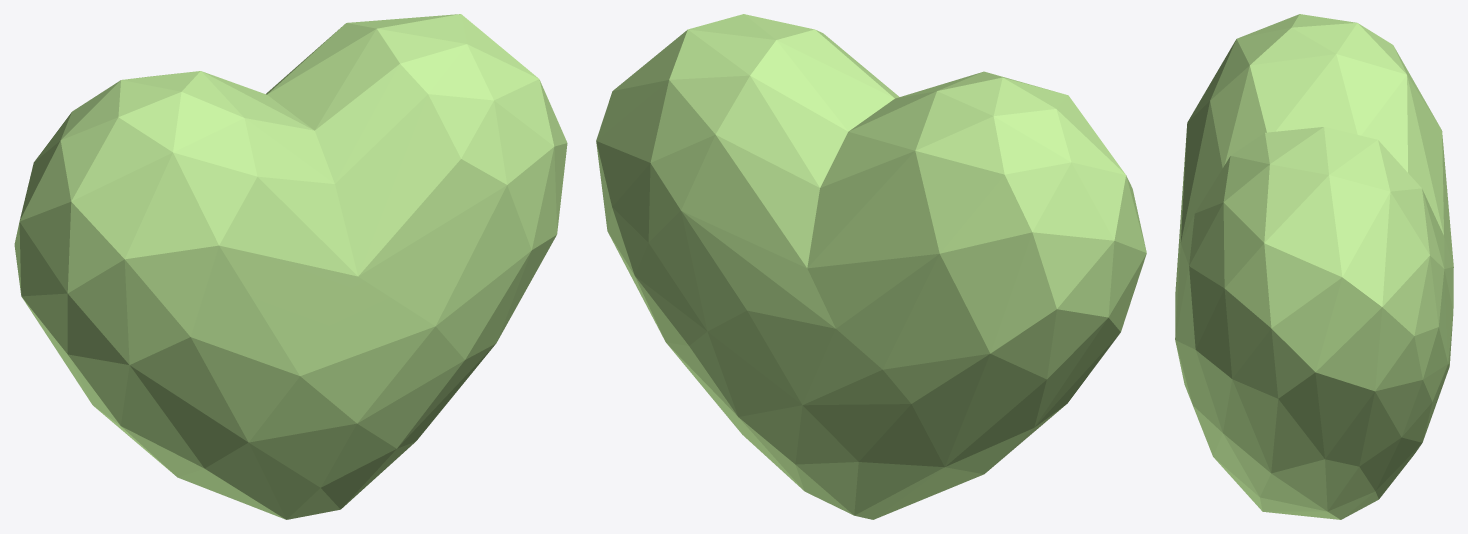
Rendered from LoveHeart.glb.
The picture shows the model from 3 angles, left to right: view 1: azimuth 30°, elevation 25°; view 2: azimuth 150°, elevation 25°; view 3: azimuth 270°, elevation 25°; orthographic projection. The views are drawn at different scales.
Visible parts, largest first — view 1: Love; view 2: Love; view 3: Love.
Boxes of the visible parts, bbox=[...] form: Love: bbox=[14, 14, 567, 519]; Love: bbox=[596, 14, 1146, 519]; Love: bbox=[1175, 14, 1453, 519].
Size of the model in its own units: 80.33 by 67.16 by 39.58.
